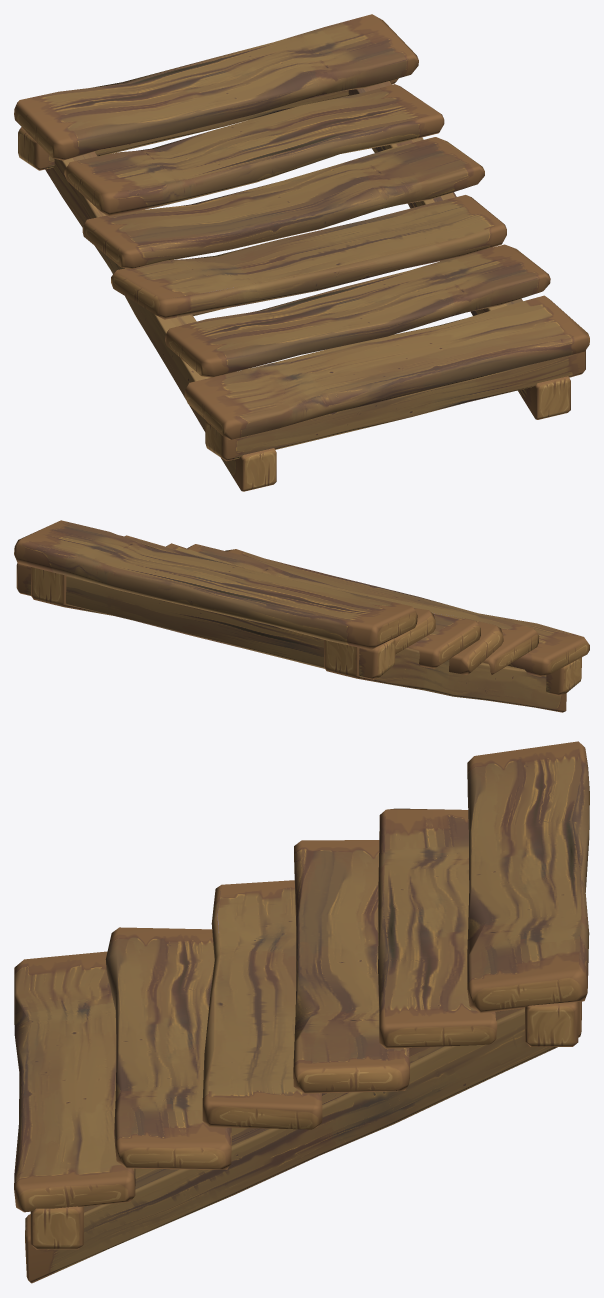
File: SM_MOD_stairs_town_01_02.fbx
3 views of the same model, one above another, from view 1: azimuth 30°, elevation 25°; view 2: azimuth 150°, elevation 25°; view 3: azimuth 270°, elevation 25° (orthographic). The views are drawn at different scales.
Visible parts, largest first — view 1: SM_MOD_stairs_town_01_02_LOD0; view 2: SM_MOD_stairs_town_01_02_LOD0; view 3: SM_MOD_stairs_town_01_02_LOD0.
Boxes of the visible parts, bbox=[...] form: SM_MOD_stairs_town_01_02_LOD0: bbox=[14, 14, 589, 491]; SM_MOD_stairs_town_01_02_LOD0: bbox=[14, 520, 589, 712]; SM_MOD_stairs_town_01_02_LOD0: bbox=[14, 741, 589, 1283].
Size of what is drawn, in the model's own units: 201 by 129 by 208.
